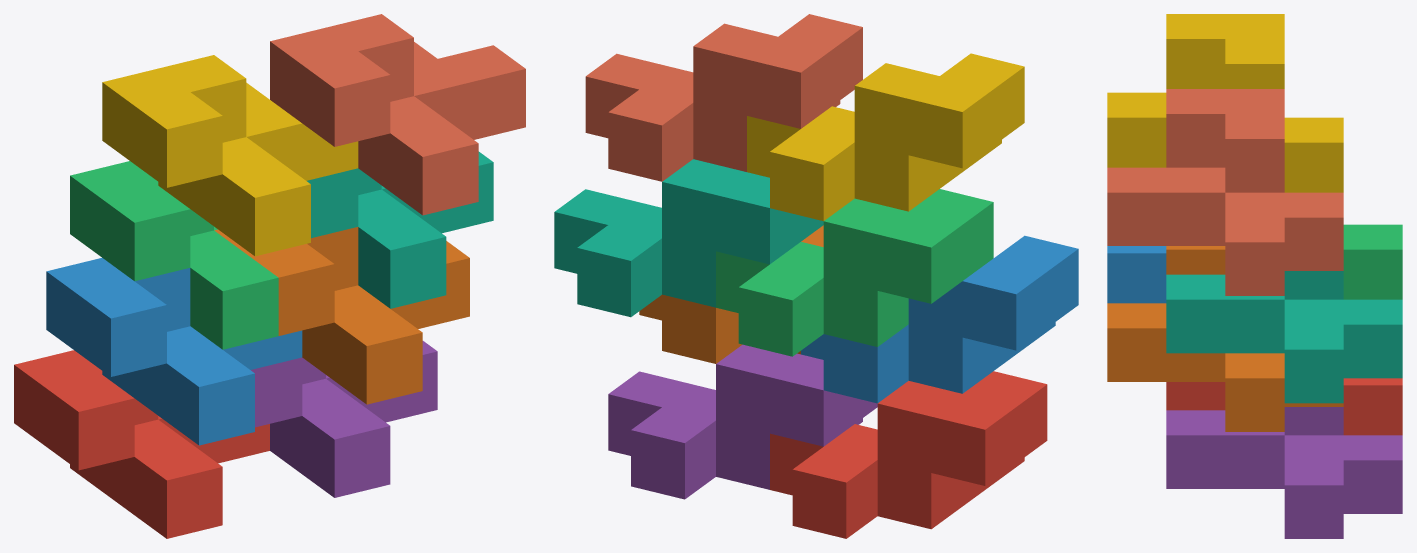
Rendered from tiling.obj.
The picture shows the model from 3 angles, left to right: view 1: azimuth 30°, elevation 25°; view 2: azimuth 150°, elevation 25°; view 3: azimuth 270°, elevation 25°; orthographic projection. The views are drawn at different scales.
Parts seen in each view (by area): view 1: copy_1_domain_8, copy_1_domain_4, copy_1_domain_2, copy_1_domain_1, copy_1_domain_3, copy_1_domain_6, copy_1_domain_5, copy_1_domain_7; view 2: copy_1_domain_1, copy_1_domain_4, copy_1_domain_8, copy_1_domain_3, copy_1_domain_7, copy_1_domain_5, copy_1_domain_2, copy_1_domain_6; view 3: copy_1_domain_8, copy_1_domain_7, copy_1_domain_5, copy_1_domain_4, copy_1_domain_6, copy_1_domain_1, copy_1_domain_3, copy_1_domain_2.
Boxes of the visible parts, left/top/right/bottom form: copy_1_domain_8: left=270, top=14, right=525, bottom=215; copy_1_domain_4: left=102, top=55, right=358, bottom=256; copy_1_domain_2: left=46, top=258, right=302, bottom=445; copy_1_domain_1: left=14, top=350, right=269, bottom=538; copy_1_domain_3: left=70, top=161, right=278, bottom=349; copy_1_domain_6: left=214, top=227, right=469, bottom=404; copy_1_domain_5: left=251, top=341, right=437, bottom=497; copy_1_domain_7: left=307, top=151, right=493, bottom=308; copy_1_domain_1: left=770, top=371, right=1047, bottom=538; copy_1_domain_4: left=747, top=53, right=1024, bottom=221; copy_1_domain_8: left=585, top=14, right=862, bottom=181; copy_1_domain_3: left=716, top=189, right=993, bottom=356; copy_1_domain_7: left=554, top=159, right=823, bottom=317; copy_1_domain_5: left=608, top=344, right=877, bottom=499; copy_1_domain_2: left=801, top=235, right=1078, bottom=403; copy_1_domain_6: left=639, top=225, right=823, bottom=363; copy_1_domain_8: left=1107, top=89, right=1343, bottom=295; copy_1_domain_7: left=1166, top=271, right=1402, bottom=403; copy_1_domain_5: left=1166, top=407, right=1402, bottom=538; copy_1_domain_4: left=1107, top=14, right=1343, bottom=192; copy_1_domain_6: left=1107, top=246, right=1343, bottom=431; copy_1_domain_1: left=1166, top=378, right=1402, bottom=435; copy_1_domain_3: left=1343, top=224, right=1402, bottom=299; copy_1_domain_2: left=1107, top=246, right=1166, bottom=303.
Size of the model in its own units: 8 by 7 by 5.
